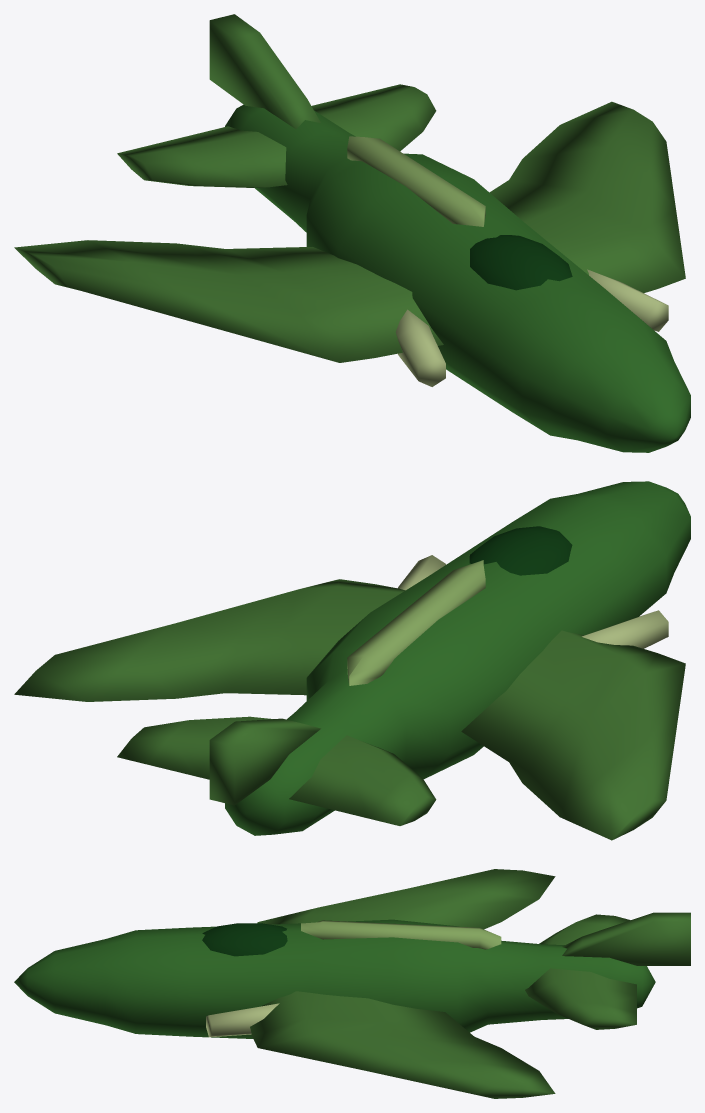
File: newshf-53.glb
3 views of the same model, one above another, from view 1: azimuth 30°, elevation 25°; view 2: azimuth 150°, elevation 25°; view 3: azimuth 270°, elevation 25° (orthographic). The views are drawn at different scales.
Parts seen in each view (by area): view 1: newshf-53; view 2: newshf-53; view 3: newshf-53.
Boxes of the visible parts, x1,y1,x2,y2 form: newshf-53: [14, 14, 690, 452]; newshf-53: [14, 481, 690, 840]; newshf-53: [14, 869, 690, 1098].
Bounding box in the file's own units: 1.58 × 0.4033 × 2.08.
